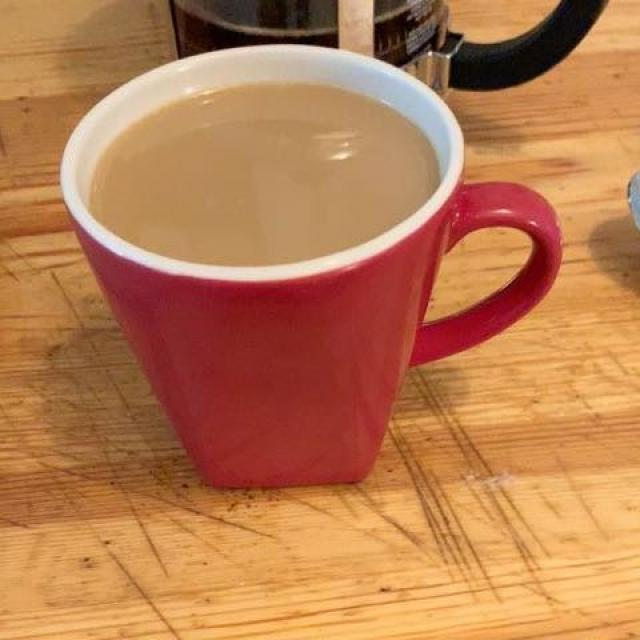drink: (82, 83, 434, 286)
